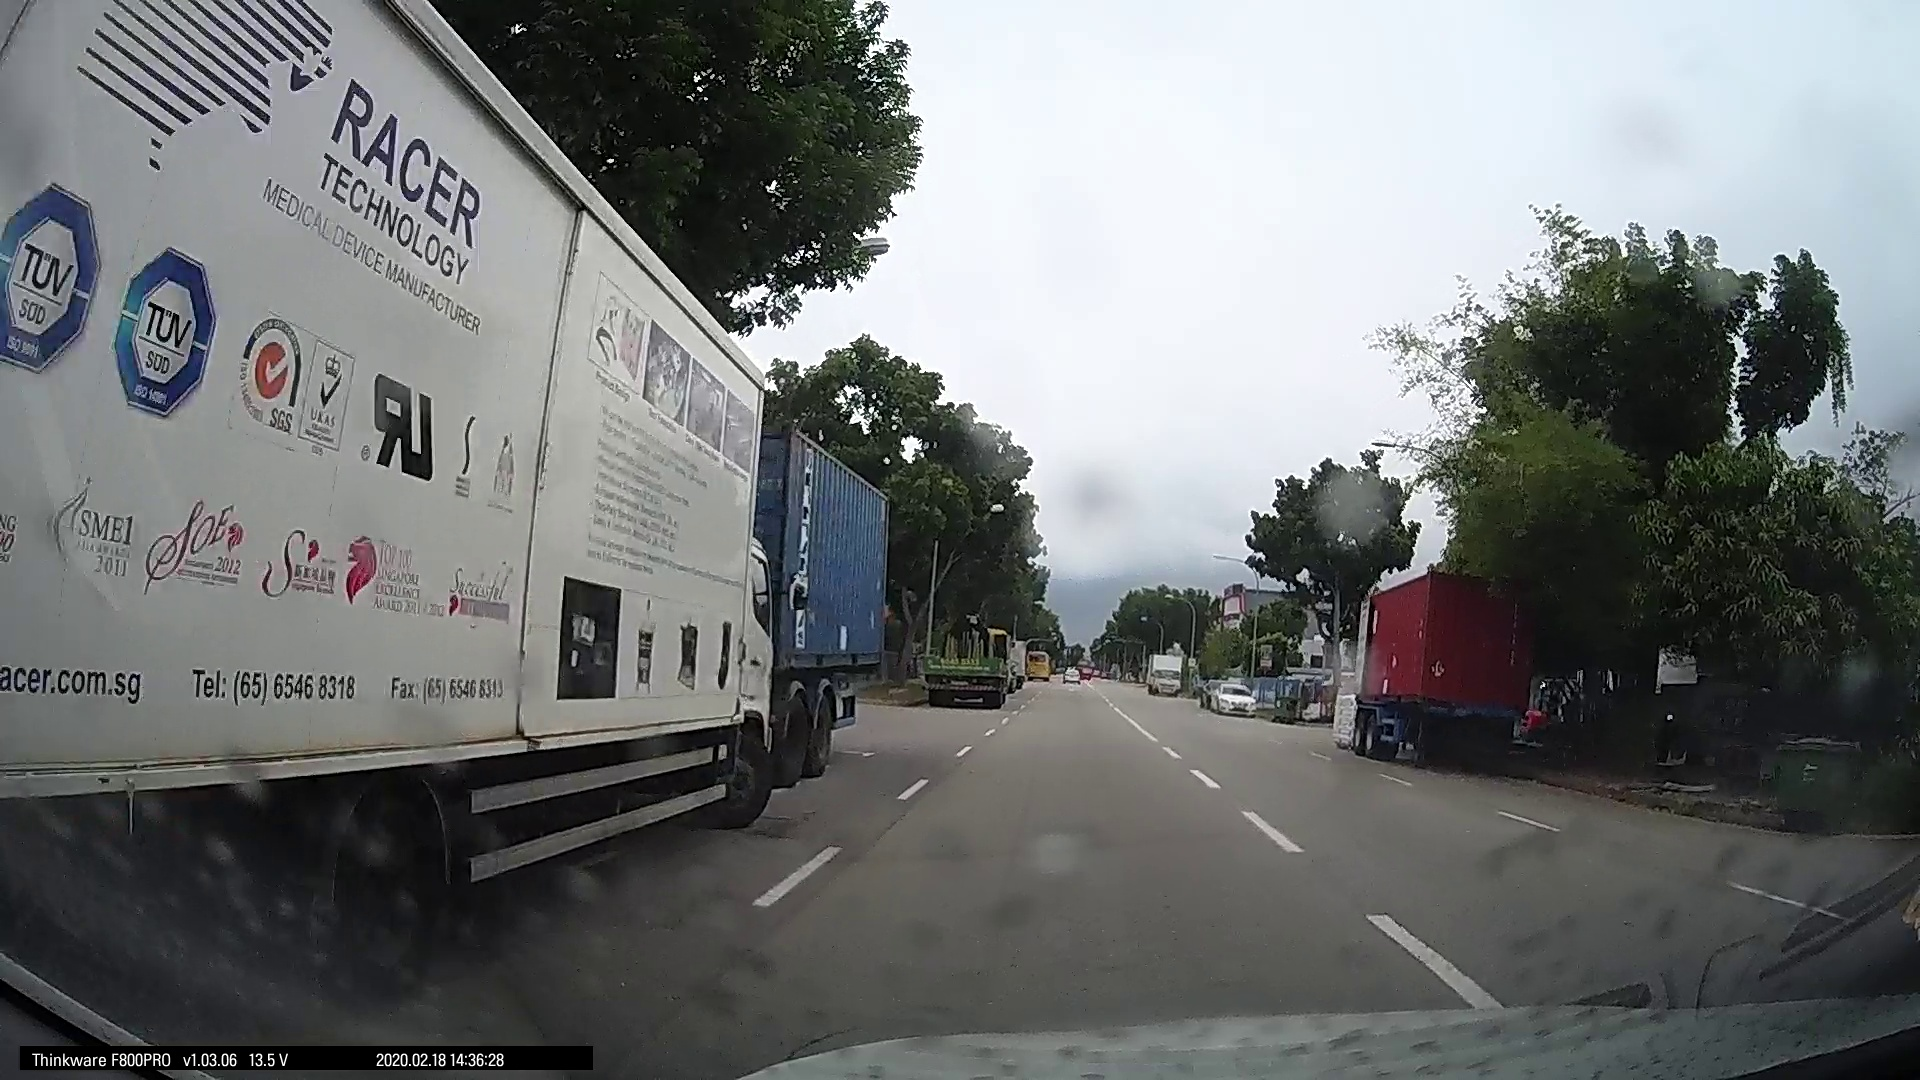Heavy Vehicle: (11, 16, 789, 1014), (1338, 564, 1545, 767)
Light Vehicle: (1199, 673, 1255, 716)
